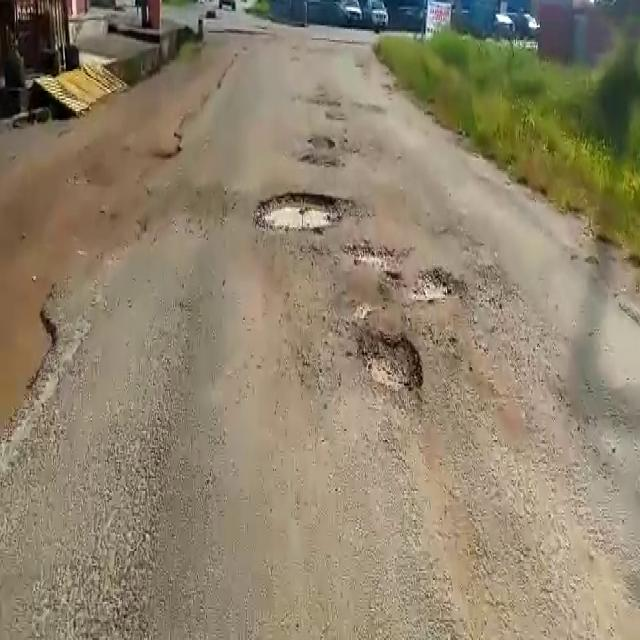Pothole: (253, 190, 354, 237), (356, 326, 425, 389), (415, 266, 471, 302), (344, 240, 396, 274)
